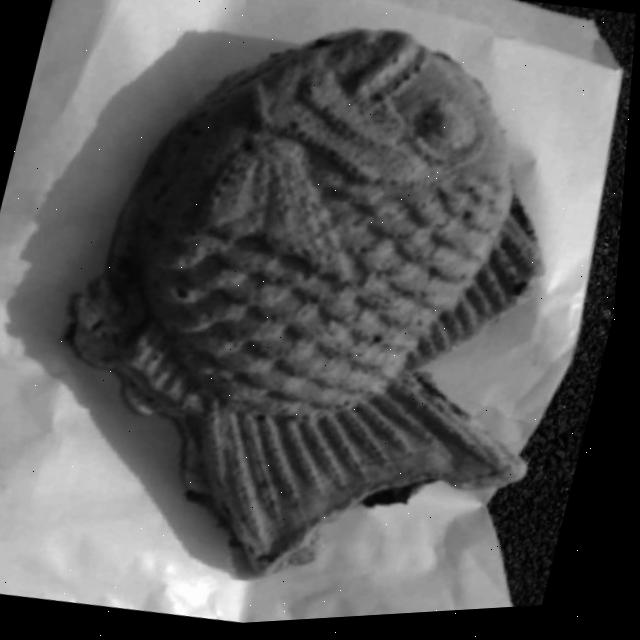熟制海鲜: (1, 0, 640, 638)
